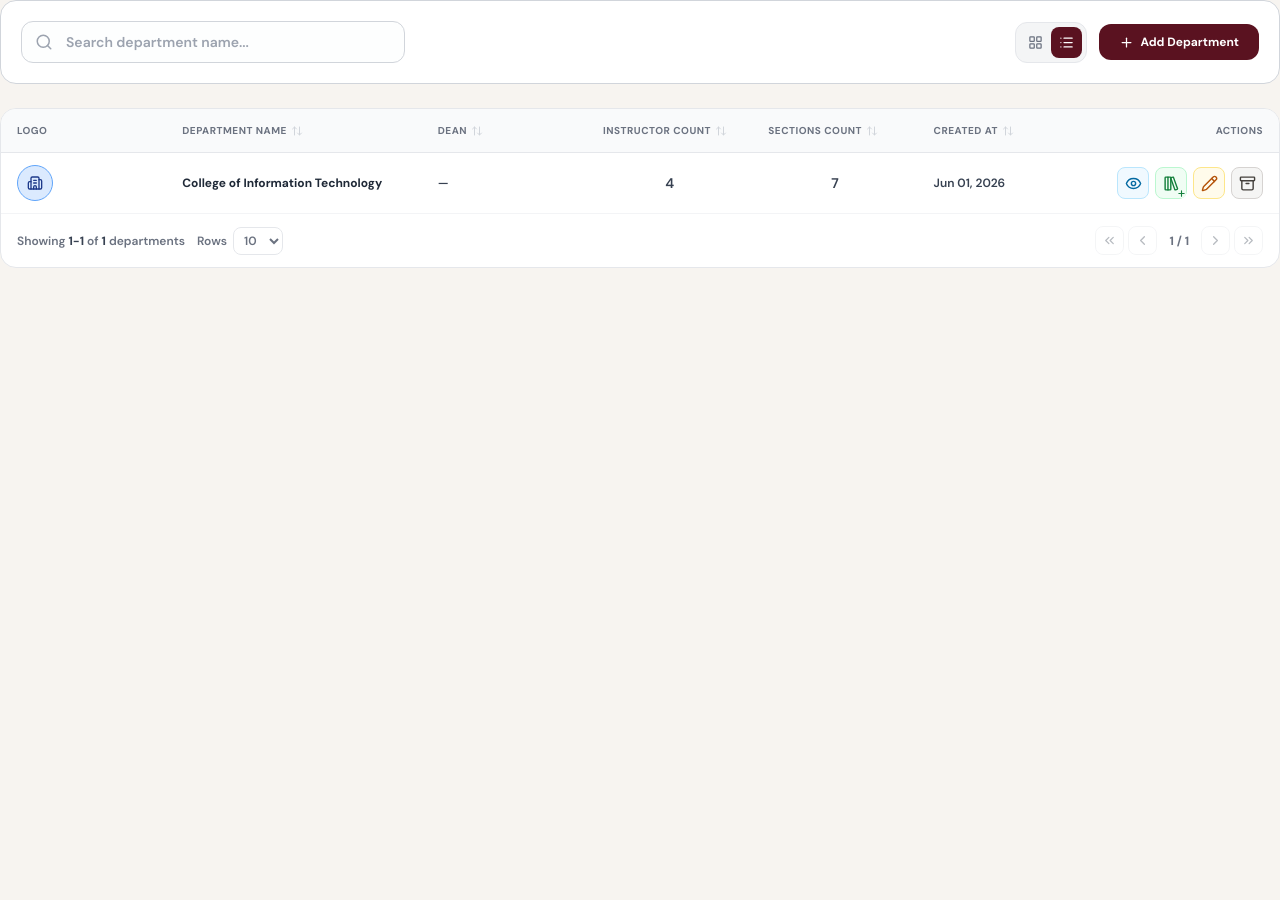
it: Departments management takes a typed department code › does not assign a secretary user as the dean when no dean is assigned
Click the text "College of Information Technology" at [294, 183], box [182, 175, 406, 191]
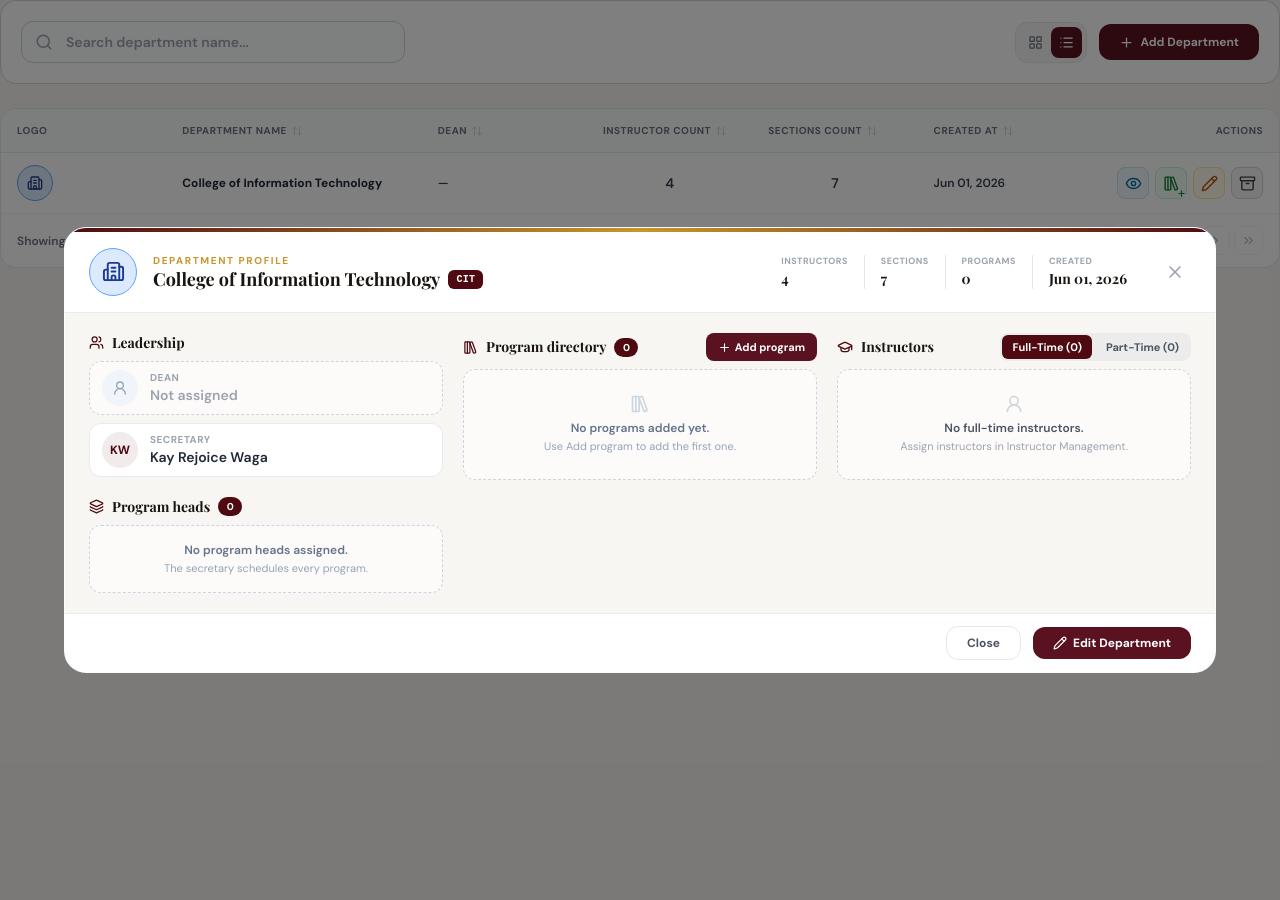
Expected: the text "Department profile" is shown, [153, 254, 290, 267]
Expected: the text "Kay Rejoice Waga" is shown, [150, 447, 268, 467]
